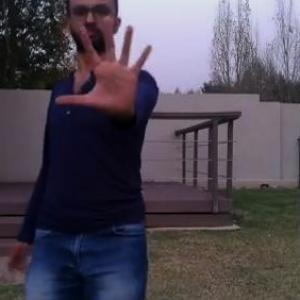follow_hand: (52, 13, 157, 116)
